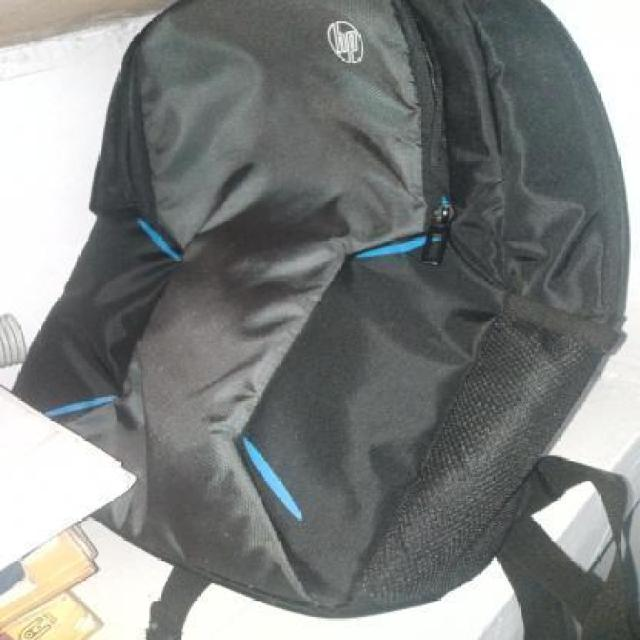backpack: (7, 2, 636, 624)
